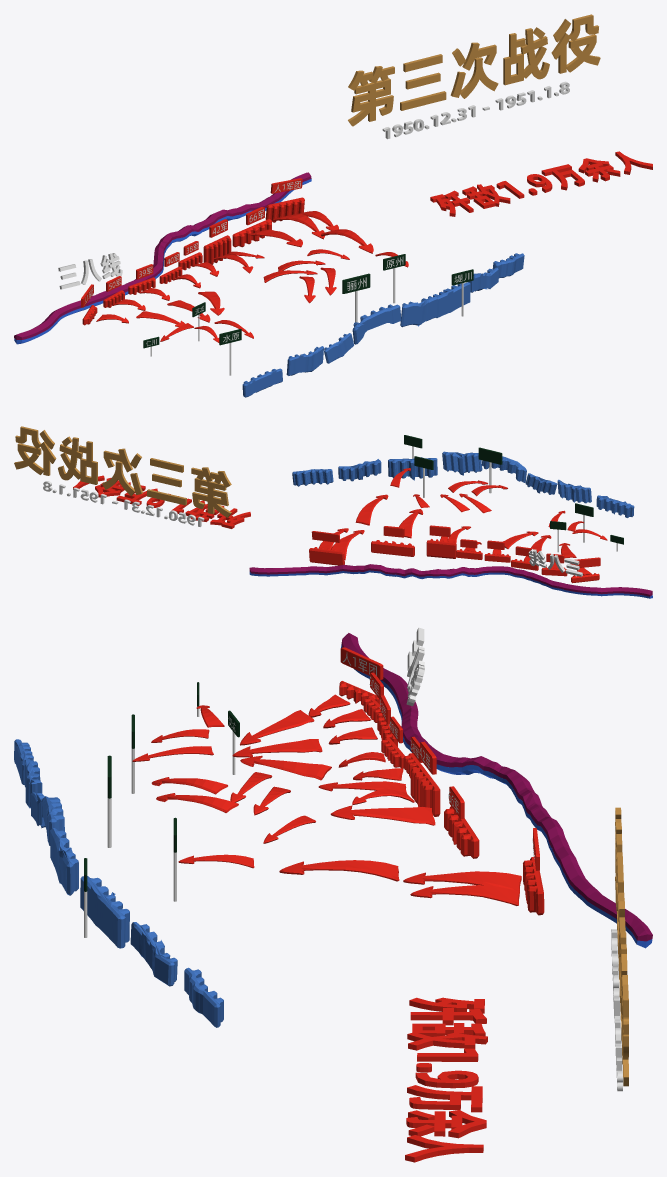
Rendered from 3-animate.glb.
3 renders of one model, top to bottom at view 1: azimuth 30°, elevation 25°; view 2: azimuth 150°, elevation 25°; view 3: azimuth 270°, elevation 25°, orthographic. The views are drawn at different scales.
Visible parts, largest first — view 1: 文本.027, 文本.019, 38line2, 文本.028, 文本.026, 贝塞尔曲线.040, 贝塞尔曲线.041, 贝塞尔曲线.042, 贝塞尔曲线.039, 贝塞尔曲线.038, 贝塞尔曲线.062, 贝塞尔曲线.052 (+2 smaller); view 2: 文本.027, 38line2, 文本.019, 文本.028, 贝塞尔曲线.041, 贝塞尔曲线.042, 贝塞尔曲线.043, 文本.026, 贝塞尔曲线.044, 贝塞尔曲线.051, 贝塞尔曲线.052, 贝塞尔曲线.039 (+9 smaller); view 3: 文本.019, 38line2, 贝塞尔曲线.062, 文本.027, 贝塞尔曲线.042, 贝塞尔曲线.043, 贝塞尔曲线.061, 贝塞尔曲线.044, 贝塞尔曲线.041, 贝塞尔曲线.060, 文本.028, 贝塞尔曲线.050 (+8 smaller).
Part boxes in pixels (bbox=[...]): 文本.027: bbox=[348, 14, 600, 126]; 文本.019: bbox=[430, 151, 652, 216]; 38line2: bbox=[14, 172, 311, 344]; 文本.028: bbox=[382, 81, 569, 139]; 文本.026: bbox=[58, 253, 122, 289]; 贝塞尔曲线.040: bbox=[352, 304, 401, 344]; 贝塞尔曲线.041: bbox=[400, 296, 437, 327]; 贝塞尔曲线.042: bbox=[433, 282, 470, 317]; 贝塞尔曲线.039: bbox=[286, 346, 323, 375]; 贝塞尔曲线.038: bbox=[242, 368, 282, 397]; 贝塞尔曲线.062: bbox=[273, 211, 338, 239]; 贝塞尔曲线.052: bbox=[265, 197, 304, 222]; 文本.027: bbox=[14, 426, 231, 517]; 38line2: bbox=[249, 564, 652, 598]; 文本.019: bbox=[73, 475, 250, 528]; 文本.028: bbox=[43, 481, 204, 526]; 贝塞尔曲线.041: bbox=[442, 451, 482, 475]; 贝塞尔曲线.042: bbox=[388, 457, 437, 480]; 贝塞尔曲线.043: bbox=[338, 459, 381, 481]; 文本.026: bbox=[528, 549, 582, 576]; 贝塞尔曲线.044: bbox=[292, 469, 333, 486]; 贝塞尔曲线.051: bbox=[371, 540, 414, 556]; 贝塞尔曲线.052: bbox=[309, 547, 344, 565]; 贝塞尔曲线.039: bbox=[557, 479, 591, 503]; 文本.019: bbox=[405, 997, 487, 1162]; 38line2: bbox=[341, 633, 652, 948]; 贝塞尔曲线.062: bbox=[403, 871, 521, 905]; 文本.027: bbox=[615, 807, 628, 1086]; 贝塞尔曲线.042: bbox=[80, 876, 129, 948]; 贝塞尔曲线.043: bbox=[130, 922, 177, 986]; 贝塞尔曲线.061: bbox=[279, 860, 399, 881]; 贝塞尔曲线.044: bbox=[184, 967, 223, 1027]; 贝塞尔曲线.041: bbox=[50, 828, 78, 895]; 贝塞尔曲线.060: bbox=[330, 805, 435, 825]; 文本.028: bbox=[611, 929, 622, 1091]; 贝塞尔曲线.050: bbox=[410, 765, 440, 816].
Size of what is drawn, in the model's own units: 52.62 by 9.48 by 26.93.
